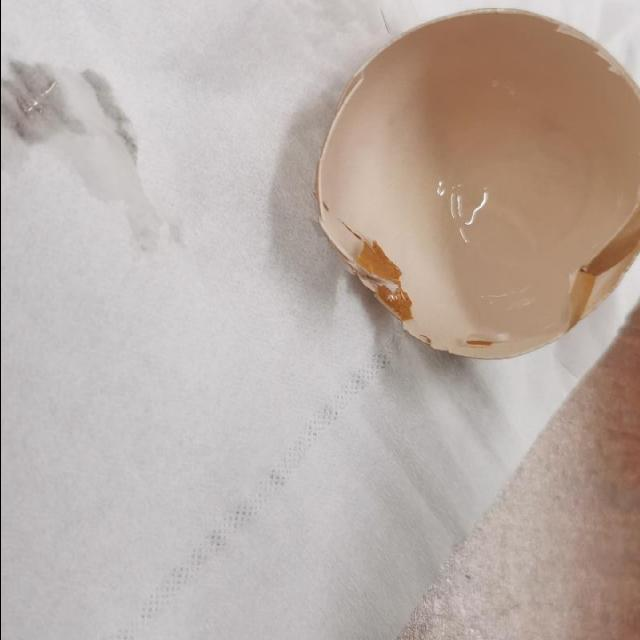egg shell: (310, 9, 640, 361)
